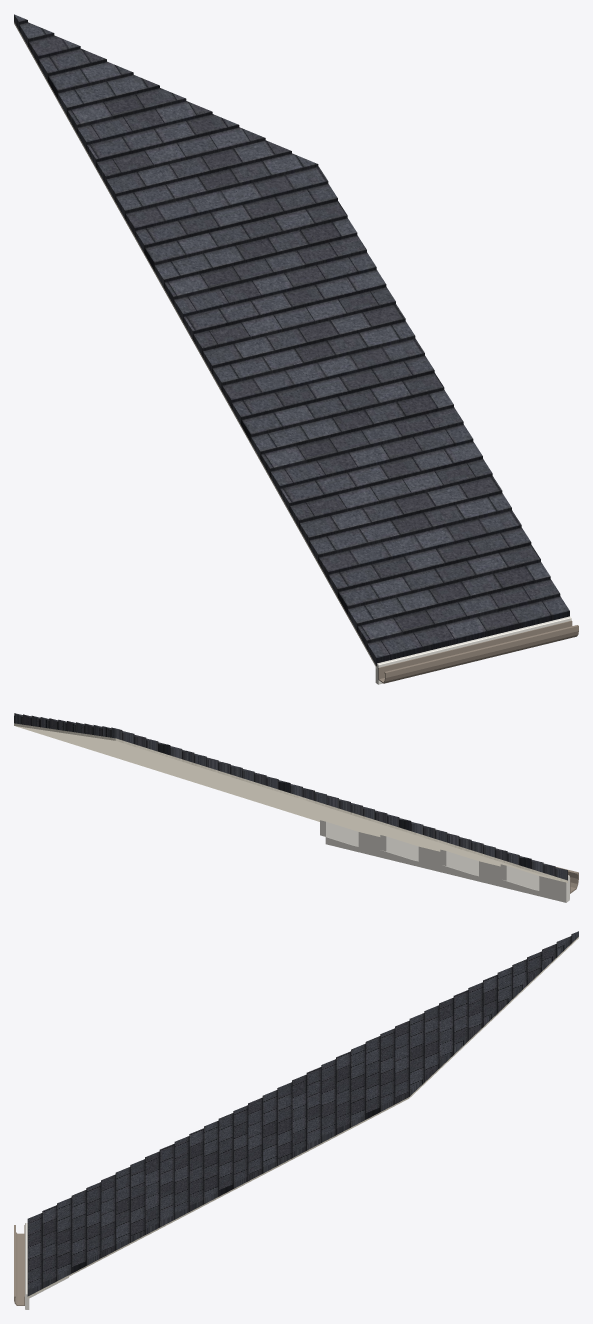
Rendered from roof_hip_1.glb.
3 views of the same model, one above another, from view 1: azimuth 30°, elevation 25°; view 2: azimuth 150°, elevation 25°; view 3: azimuth 270°, elevation 25° (orthographic). The views are drawn at different scales.
Parts seen in each view (by area): view 1: roof_hip_1_shingles, roof_hip_1_gutter, roof_hip_1_plaster, roof_hip_1_trim; view 2: roof_hip_1_plaster, roof_hip_1_shingles, roof_hip_1_trim; view 3: roof_hip_1_shingles, roof_hip_1_plaster, roof_hip_1_gutter.
Part boxes in pixels (x1=…): roof_hip_1_shingles: x1=14, y1=14, x2=569, y2=666; roof_hip_1_gutter: x1=378, y1=620, x2=578, y2=683; roof_hip_1_plaster: x1=14, y1=22, x2=376, y2=668; roof_hip_1_trim: x1=375, y1=616, x2=571, y2=684; roof_hip_1_plaster: x1=14, y1=723, x2=567, y2=882; roof_hip_1_shingles: x1=14, y1=713, x2=567, y2=880; roof_hip_1_trim: x1=320, y1=820, x2=569, y2=902; roof_hip_1_shingles: x1=27, y1=931, x2=578, y2=1296; roof_hip_1_plaster: x1=27, y1=937, x2=578, y2=1297; roof_hip_1_gutter: x1=14, y1=1225, x2=24, y2=1305.
Size of the model in its own units: 2 by 3.99 by 6.66.
Materials: 4 (2 with a texture image).
